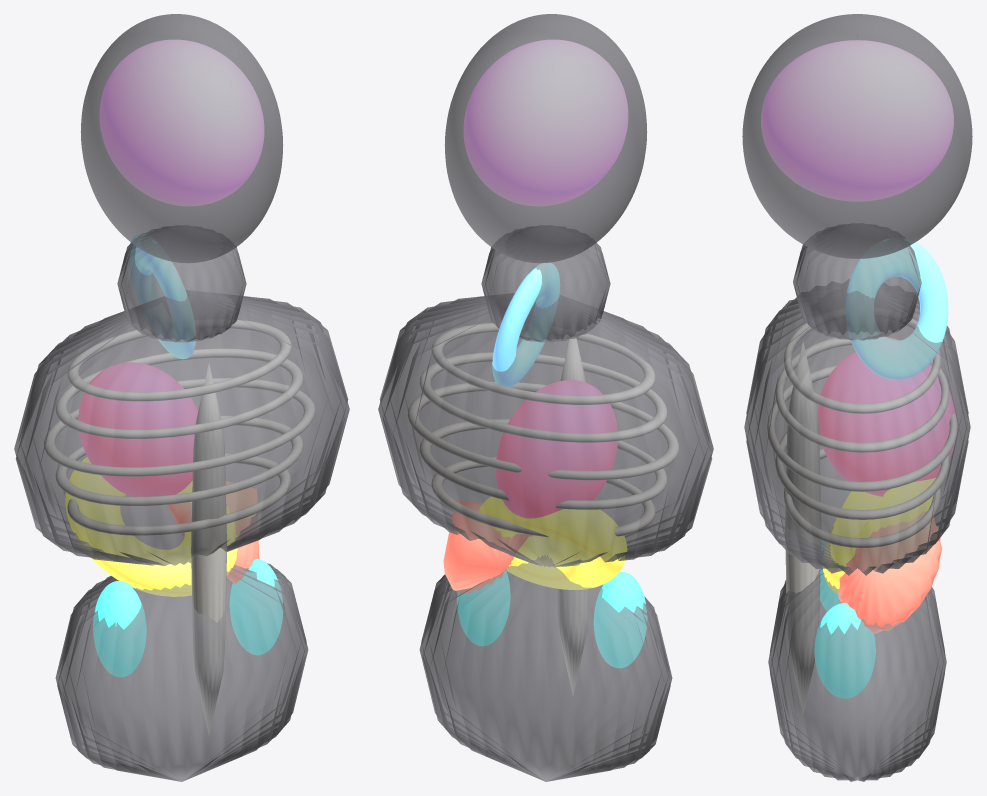
Rendered from human_anatomy_pro.glb.
3 views of the same model, side by side, from view 1: azimuth 30°, elevation 25°; view 2: azimuth 150°, elevation 25°; view 3: azimuth 270°, elevation 25° (orthographic).
Visible parts, largest first — view 1: Anatomy_Chest, Anatomy_Head, Anatomy_Abdomen, Organ_Brain, Anatomy_Neck, Organ_Heart, Skeletal_Spine, Organ_Stomach, Skeletal_Rib_4, Skeletal_Rib_3, Organ_Kidney_Left, Organ_Kidney_Right (+5 smaller); view 2: Anatomy_Chest, Anatomy_Abdomen, Anatomy_Head, Organ_Brain, Anatomy_Neck, Organ_Heart, Organ_Stomach, Organ_Thyroid, Skeletal_Rib_4, Organ_Liver, Skeletal_Rib_3, Organ_Kidney_Left (+5 smaller); view 3: Anatomy_Chest, Anatomy_Head, Anatomy_Abdomen, Organ_Brain, Anatomy_Neck, Organ_Heart, Organ_Thyroid, Skeletal_Spine, Organ_Liver, Organ_Kidney_Right, Organ_Stomach, Skeletal_Rib_4 (+5 smaller).
Part boxes in pixels (x1,y1,x2,y2): Anatomy_Chest: (14,290,349,565); Anatomy_Head: (80,14,283,262); Anatomy_Abdomen: (55,563,308,781); Organ_Brain: (99,39,264,206); Anatomy_Neck: (117,225,246,341); Organ_Heart: (78,362,198,496); Skeletal_Spine: (191,363,226,735); Organ_Stomach: (65,457,237,596); Skeletal_Rib_4: (55,348,303,438); Skeletal_Rib_3: (44,378,315,476); Organ_Kidney_Left: (93,581,146,677); Organ_Kidney_Right: (229,559,283,655); Anatomy_Chest: (378,293,713,567); Anatomy_Abdomen: (419,555,672,781); Anatomy_Head: (444,14,647,262); Organ_Brain: (463,39,628,206); Anatomy_Neck: (481,225,610,341); Organ_Heart: (495,380,617,518); Organ_Stomach: (479,496,627,589); Organ_Thyroid: (492,262,560,387); Skeletal_Rib_4: (419,352,667,442); Organ_Liver: (443,500,532,593); Skeletal_Rib_3: (407,381,679,480); Organ_Kidney_Left: (593,572,647,668); Anatomy_Chest: (744,280,970,575); Anatomy_Head: (742,14,972,258); Anatomy_Abdomen: (768,565,946,781); Organ_Brain: (761,40,953,201); Anatomy_Neck: (793,223,921,340); Organ_Heart: (817,352,955,496); Organ_Thyroid: (846,239,948,380); Skeletal_Spine: (785,341,821,714); Organ_Liver: (838,511,942,633); Organ_Kidney_Right: (814,603,875,698); Organ_Stomach: (823,478,935,593); Skeletal_Rib_4: (775,337,949,452).
Bounding box in the file's own units: 1.48 × 3.4 × 0.9321.
